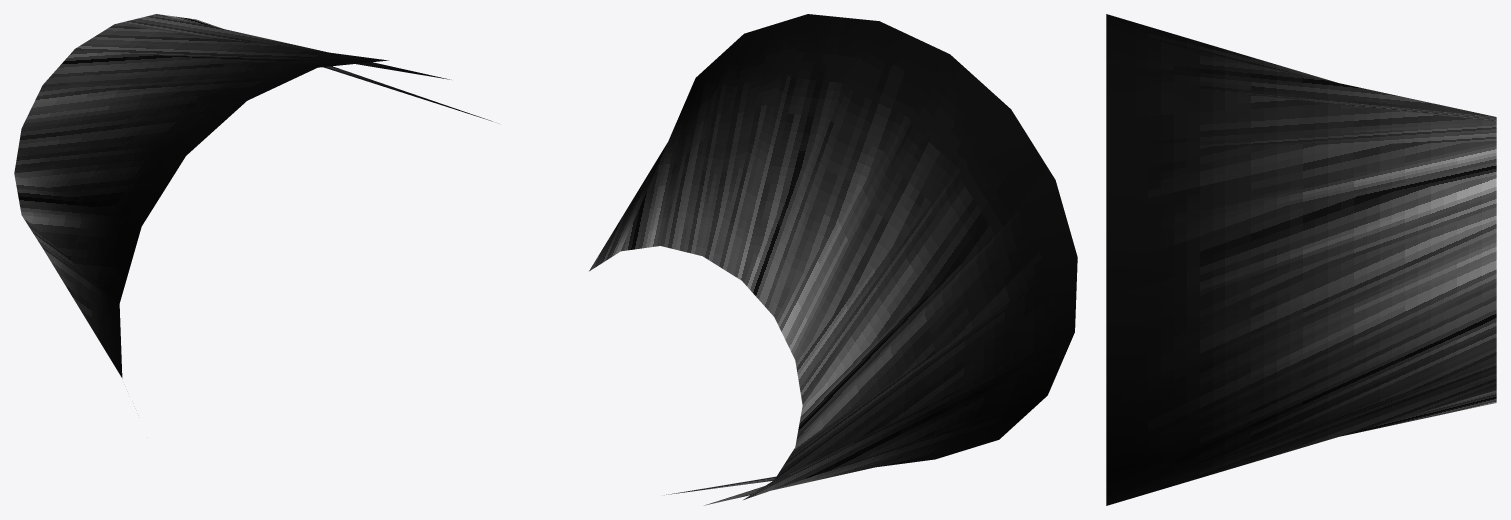
File: Suhwanzin2.glb
3 views of the same model, side by side, from view 1: azimuth 30°, elevation 25°; view 2: azimuth 150°, elevation 25°; view 3: azimuth 270°, elevation 25° (orthographic). The views are drawn at different scales.
Parts seen in each view (by area): view 1: model_Suhwanzin2; view 2: model_Suhwanzin2; view 3: model_Suhwanzin2.
Boxes of the visible parts, left/top/right/bottom form: model_Suhwanzin2: left=14, top=14, right=492, bottom=377; model_Suhwanzin2: left=589, top=14, right=1077, bottom=505; model_Suhwanzin2: left=1106, top=14, right=1496, bottom=505.
Bounding box in the file's own units: 3.84 × 3.87 × 3.07.
1 material, 1 textured.
